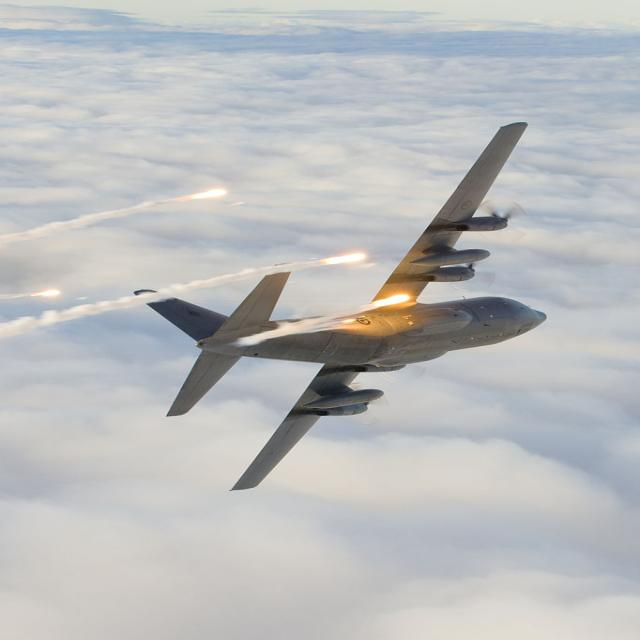MIL_Plane: (295, 122, 385, 491)
